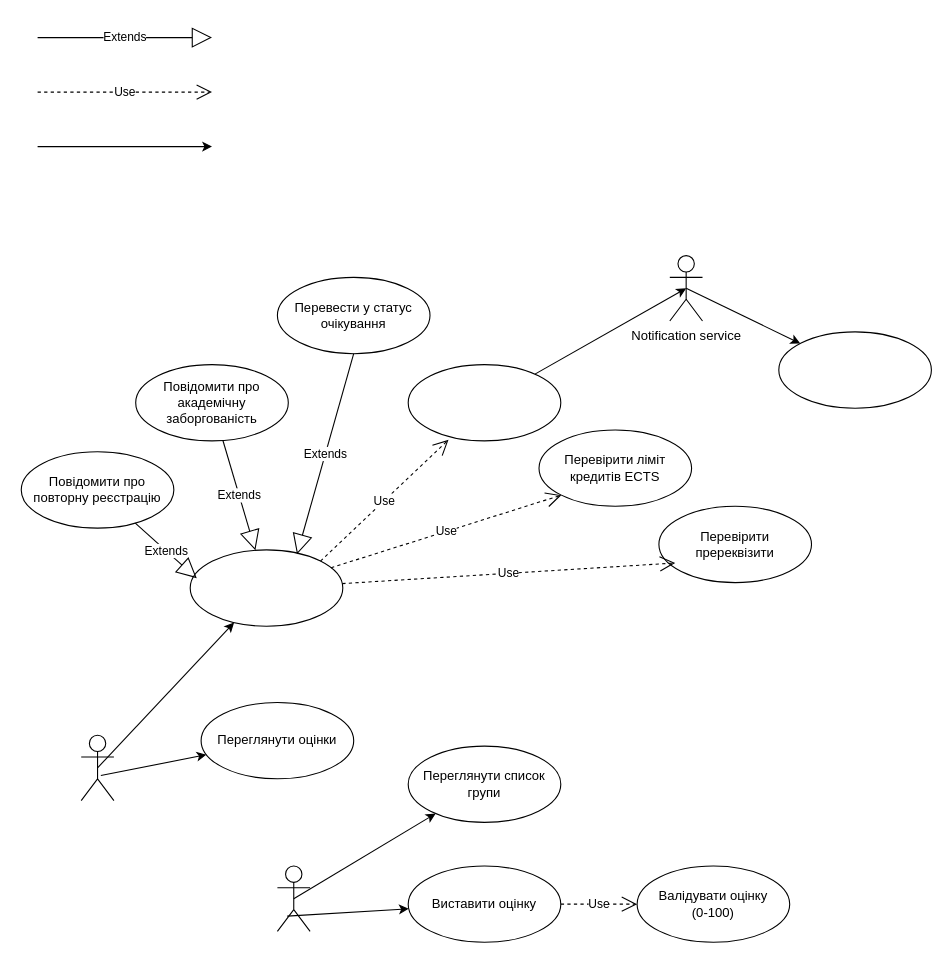
Image size: 950x973. Some labels were removed from this diagram. Here are the shapes that lost their labels. From the top down, the centre of each, then its label:
At (x=854, y=369): "Надіслати email підтвердження".
At (x=484, y=402): "Надіслати подію реєстрації".
At (x=266, y=587): "Зареєструватися на курс".
At (x=97, y=767): "Student".
At (x=293, y=898): "Teacher".
